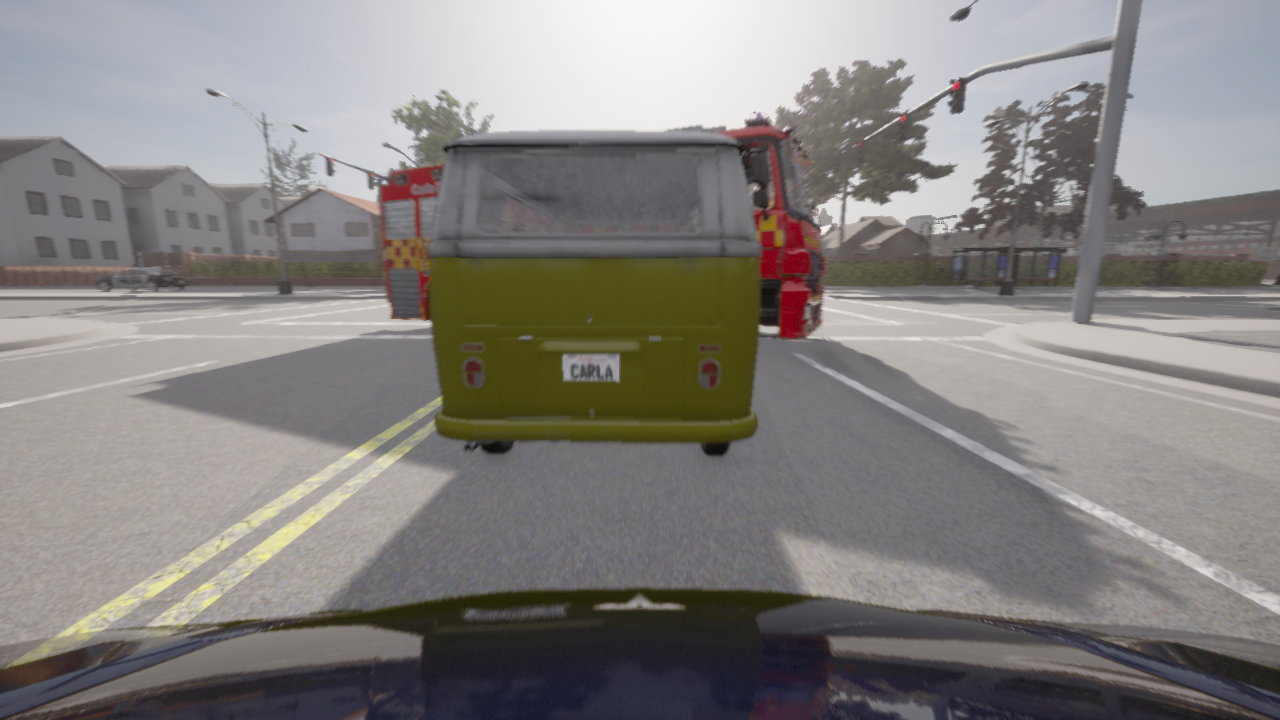cyclist: (0, 588, 1279, 719), (428, 130, 761, 455), (377, 112, 824, 338), (95, 265, 190, 291)
pedestrian: (933, 262, 944, 285)
